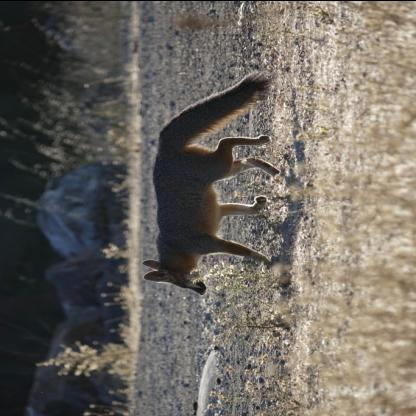zorro: (134, 64, 292, 302)
